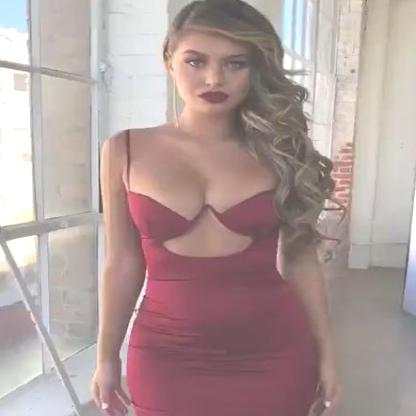jacket: (112, 120, 328, 416)
